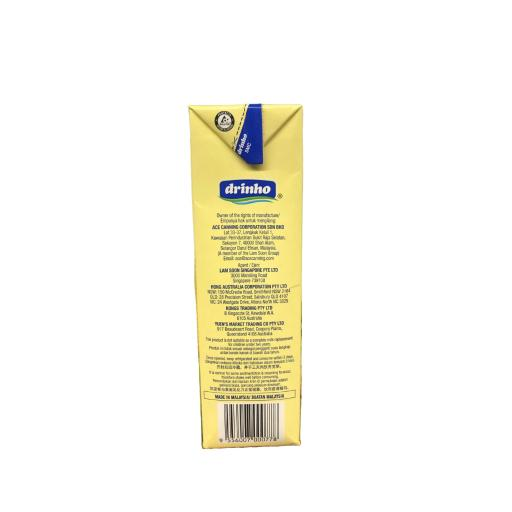drink carton: (187, 100, 307, 450)
